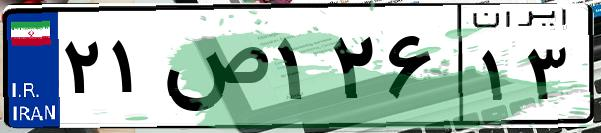1: (270, 28, 330, 110), (475, 38, 525, 113), (110, 28, 158, 98)
2: (330, 28, 385, 110), (57, 26, 110, 100)
3: (525, 38, 570, 115)
6: (385, 28, 445, 110)
ص: (158, 20, 270, 120)
